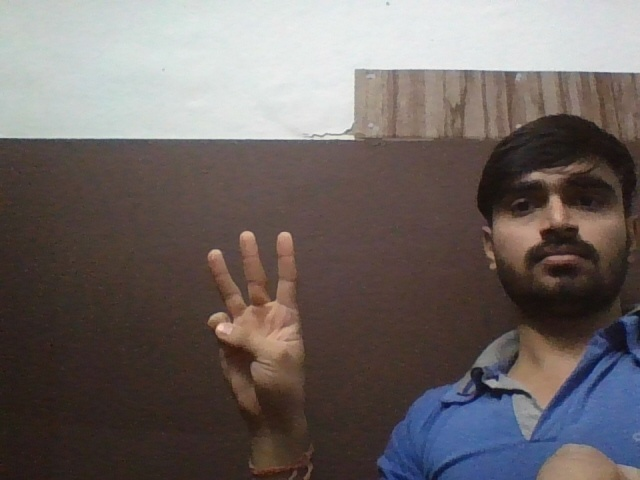W: (191, 223, 312, 416)
